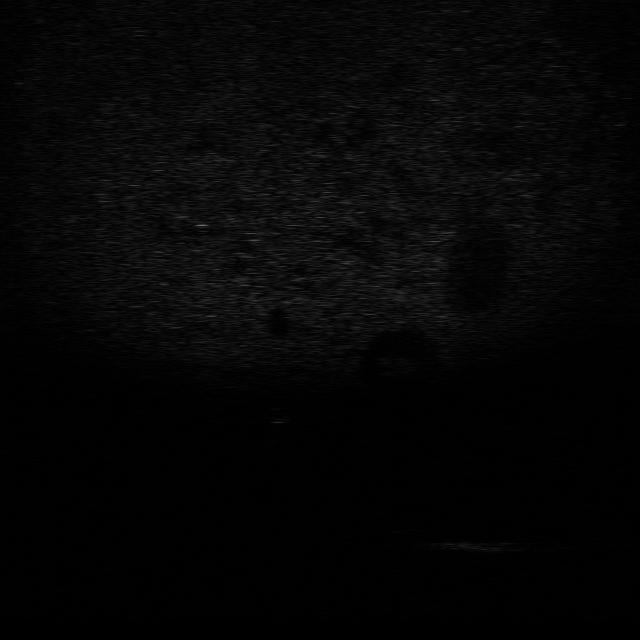ball: (260, 404, 295, 426)
metal bucket: (430, 536, 542, 556)
tyre: (362, 510, 442, 535)
